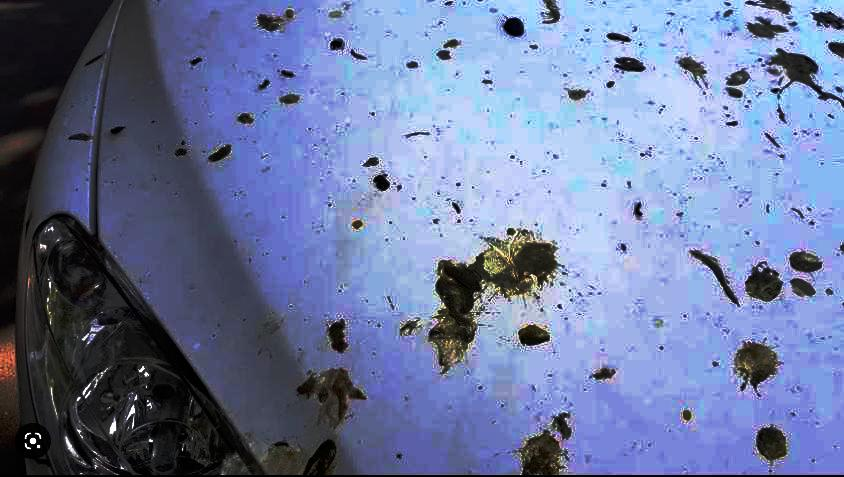Bird Poop: (429, 229, 556, 371), (769, 49, 843, 105), (297, 368, 365, 427), (691, 250, 739, 304), (264, 439, 336, 474), (522, 430, 565, 474), (735, 343, 775, 389), (746, 263, 782, 300), (757, 427, 785, 459), (679, 58, 706, 87), (748, 17, 786, 37), (790, 251, 821, 271), (519, 325, 549, 344), (330, 321, 347, 352), (812, 12, 843, 28), (752, 0, 789, 13), (554, 414, 571, 438), (790, 279, 815, 295), (503, 17, 523, 36), (727, 69, 749, 85), (543, 0, 559, 22), (208, 145, 230, 160), (615, 58, 644, 69), (257, 15, 278, 30), (84, 52, 104, 65), (373, 174, 389, 190), (400, 321, 418, 334), (593, 368, 614, 378), (829, 42, 843, 57), (568, 90, 587, 99), (767, 133, 779, 147), (406, 130, 430, 137), (280, 94, 298, 103), (608, 33, 630, 40), (238, 113, 253, 123), (69, 133, 90, 140), (363, 157, 378, 166), (727, 88, 741, 97), (331, 38, 342, 49), (351, 50, 366, 58), (443, 39, 457, 47), (779, 106, 786, 121), (110, 127, 125, 134), (258, 79, 269, 88), (634, 203, 641, 216), (682, 410, 691, 420), (452, 202, 460, 213), (437, 51, 449, 58), (175, 148, 186, 155), (281, 70, 293, 76), (353, 220, 362, 228), (408, 61, 417, 68), (191, 58, 201, 64), (727, 120, 737, 125)
